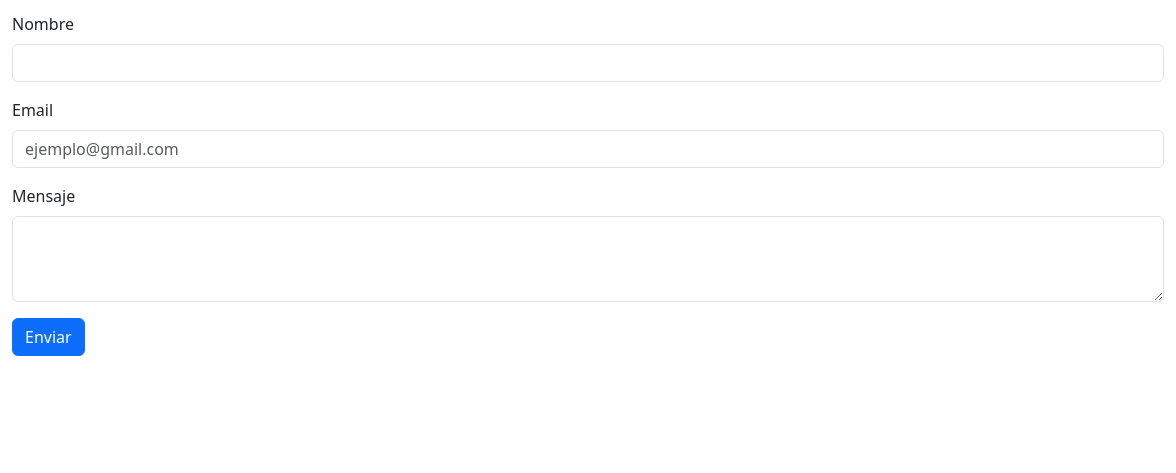
Scenario: ContactForm Component › muestra múltiples errores a la vez
Click the button "Enviar". click: (48, 337)
box: [12, 318, 85, 356]
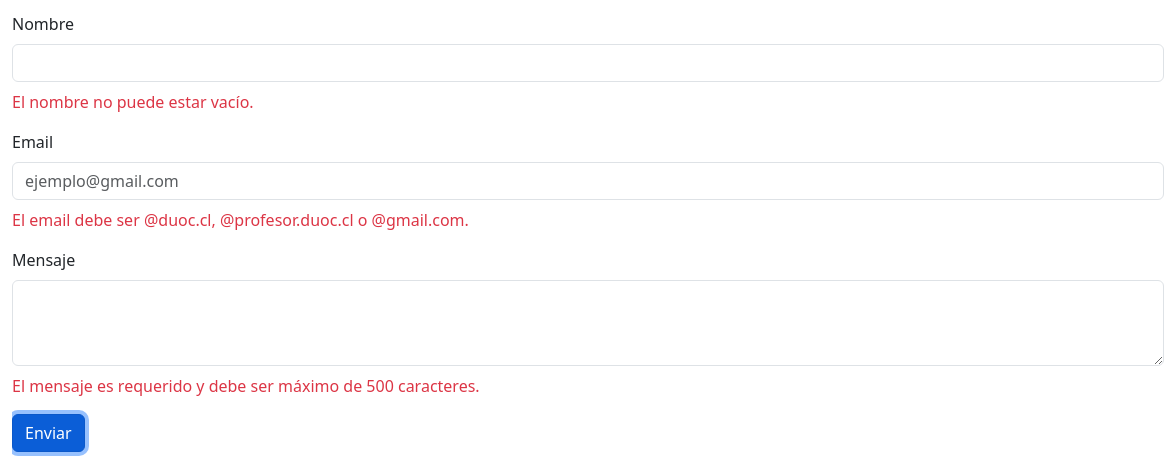
Result: the text "El nombre no puede estar vacío." is shown at [12, 91, 254, 113]
Result: the text "El email debe ser @duoc.cl, @profesor.duoc.cl o @gmail.com." is shown at [12, 209, 469, 231]
Result: the text "El mensaje es requerido y debe ser máximo de 500 caracteres." is shown at [12, 375, 480, 397]
